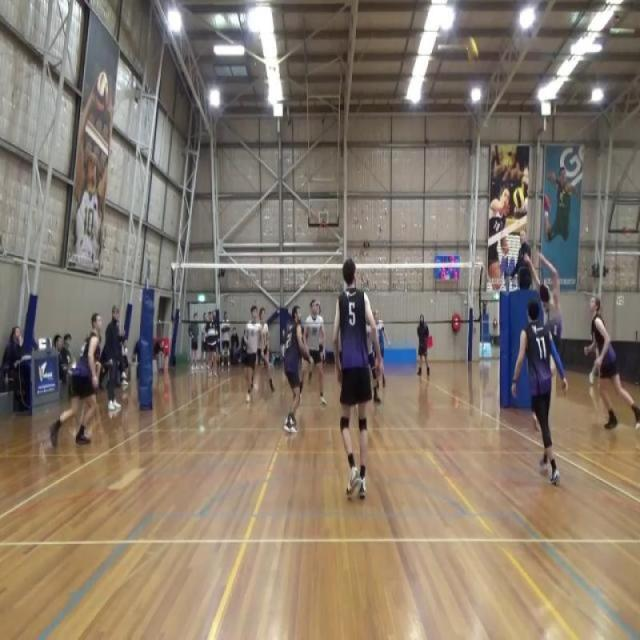volleyball: (94, 69, 110, 115), (466, 36, 479, 64), (512, 186, 526, 210)
